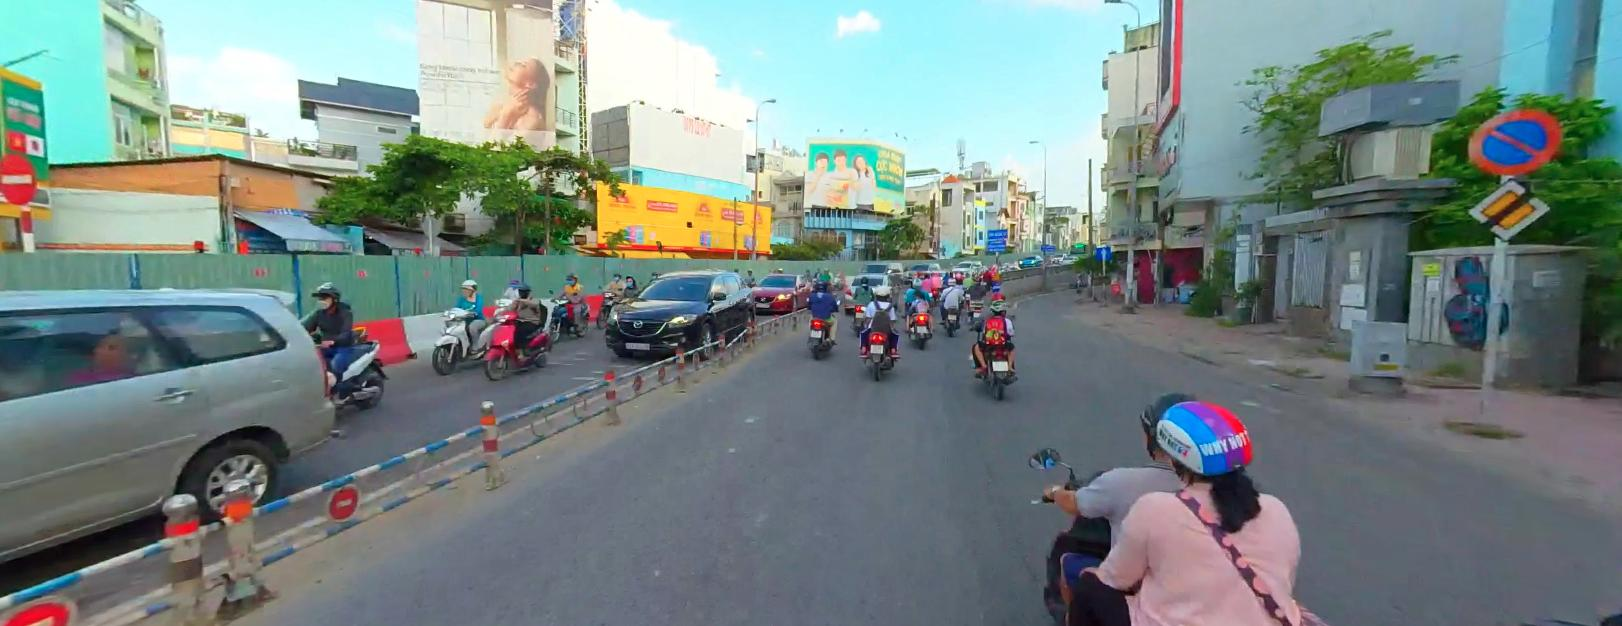Cam dung va do: (1469, 110, 1560, 175)
Cam nguoc chieu: (0, 151, 38, 204)
Hieu lenh: (990, 280, 999, 290)
Nguy hiem: (990, 269, 999, 278)
